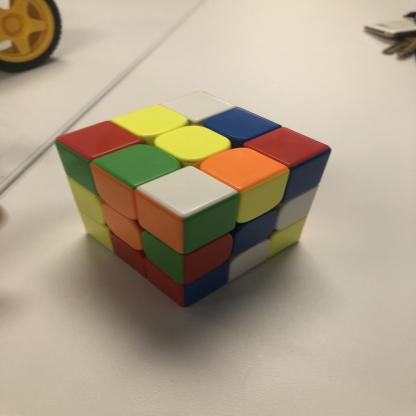UnsolvedCube: (40, 84, 344, 311)
